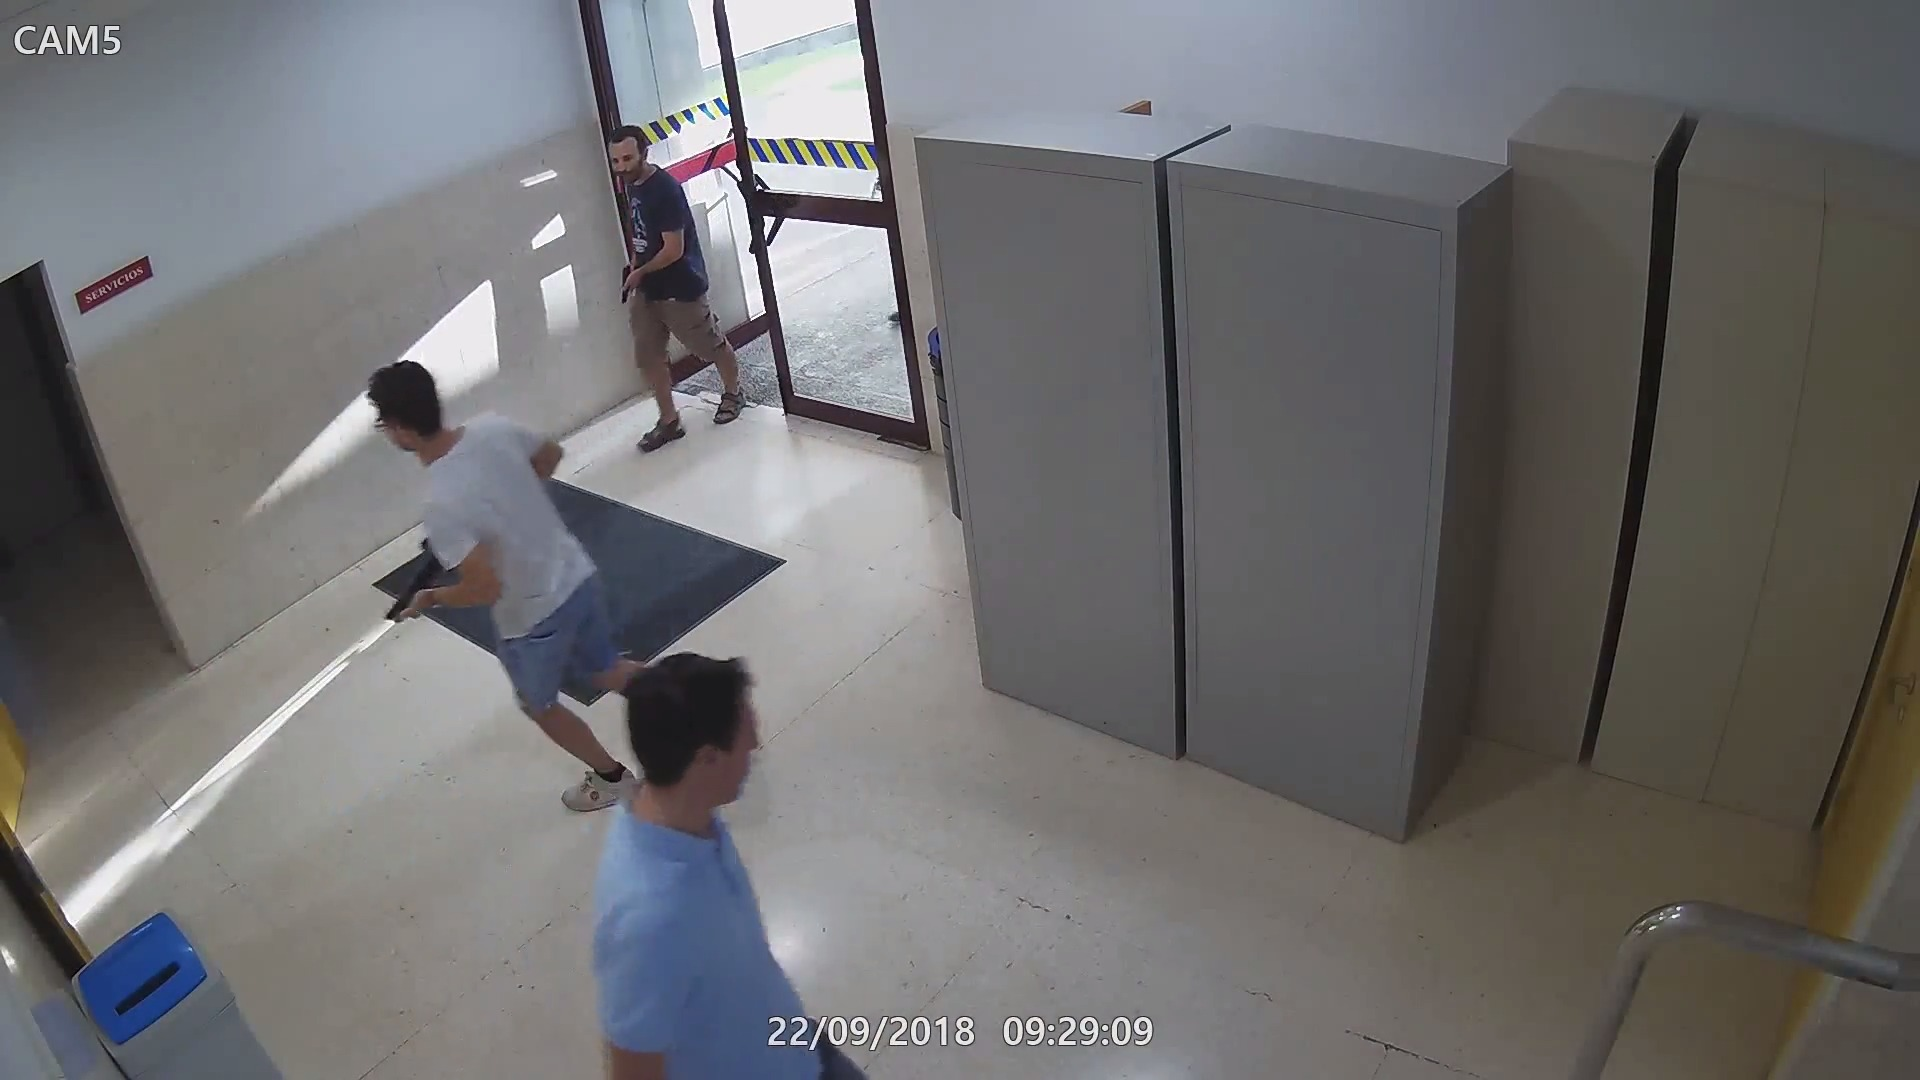Handgun: (616, 260, 642, 305), (868, 171, 884, 199)
Short_rifle: (378, 538, 450, 629)
